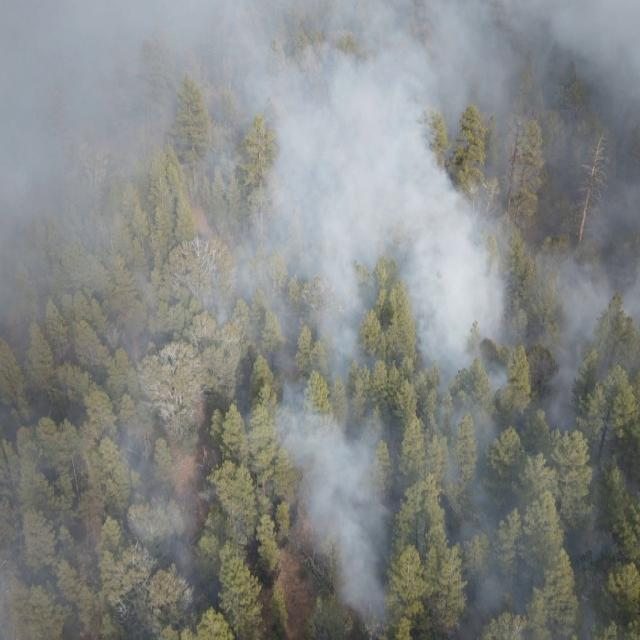smoke: (0, 1, 640, 376), (263, 374, 640, 640), (0, 375, 208, 640)
